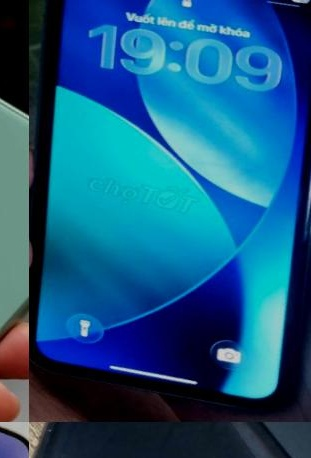scratch: (29, 422, 78, 458)
